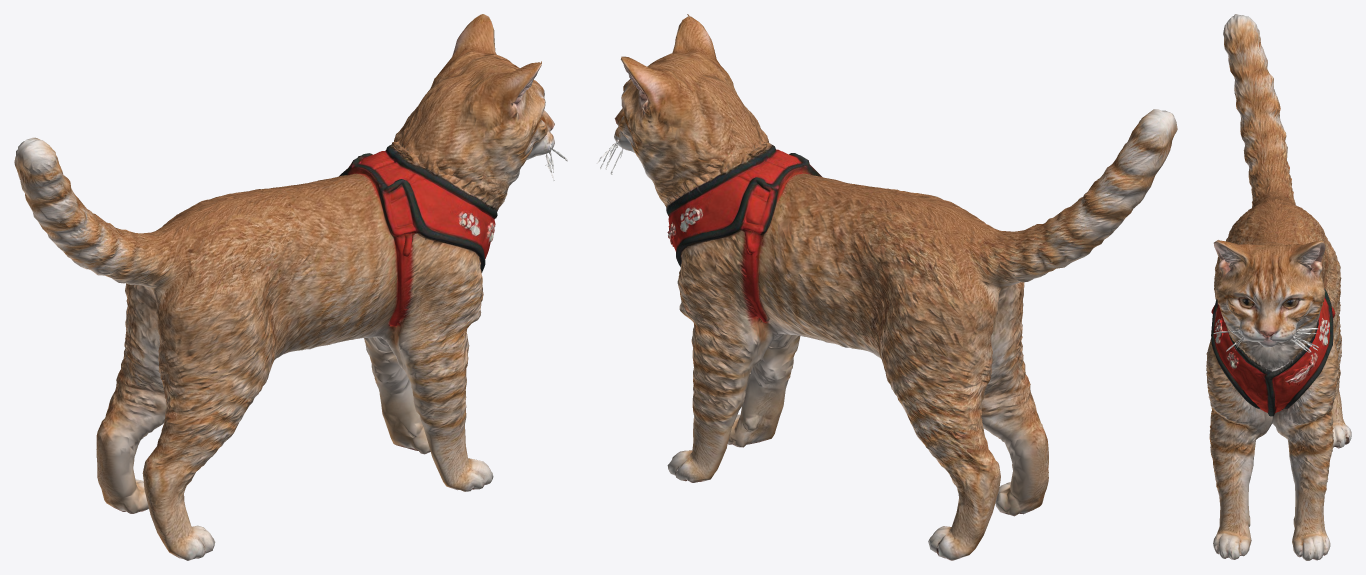
Rendered from MIKANCAT.glb.
3 renders of one model, left to right at view 1: azimuth 30°, elevation 25°; view 2: azimuth 150°, elevation 25°; view 3: azimuth 270°, elevation 25°, orthographic. The views are drawn at different scales.
Parts seen in each view (by area): view 1: tripo_node_ca1c87f8-a32a-4d01-a97c-862ac9f56644; view 2: tripo_node_ca1c87f8-a32a-4d01-a97c-862ac9f56644; view 3: tripo_node_ca1c87f8-a32a-4d01-a97c-862ac9f56644.
Boxes of the visible parts, x1,y1,x2,y2 form: tripo_node_ca1c87f8-a32a-4d01-a97c-862ac9f56644: (14, 14, 567, 560); tripo_node_ca1c87f8-a32a-4d01-a97c-862ac9f56644: (597, 14, 1177, 560); tripo_node_ca1c87f8-a32a-4d01-a97c-862ac9f56644: (1206, 14, 1351, 560).
Size of the model in its own units: 1.29 by 0.9995 by 0.36.
Materials: 1 (1 with a texture image).
